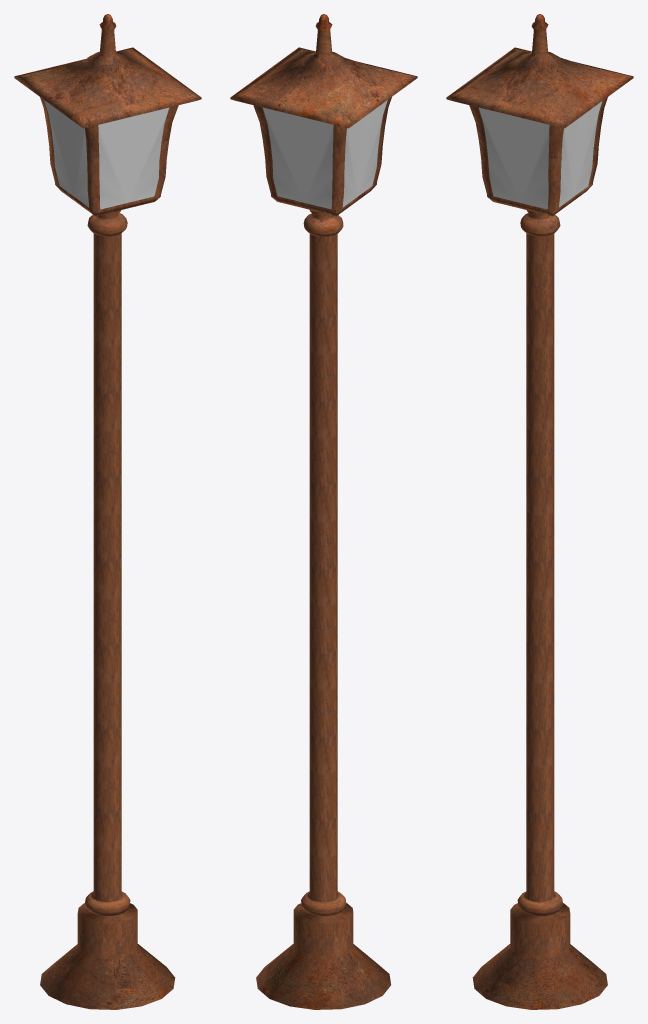
File: Lamp.fbx
3 renders of one model, left to right at view 1: azimuth 30°, elevation 25°; view 2: azimuth 150°, elevation 25°; view 3: azimuth 330°, elevation 25°, orthographic.
Parts seen in each view (by area): view 1: Candeeiro de rua antigo; view 2: Candeeiro de rua antigo; view 3: Candeeiro de rua antigo.
Boxes of the visible parts, x1,y1,x2,y2 form: Candeeiro de rua antigo: (14, 14, 201, 1009); Candeeiro de rua antigo: (230, 14, 417, 1009); Candeeiro de rua antigo: (446, 14, 633, 1009).
Bounding box in the file's own units: 175 × 1363 × 176.
Materials: 2 (1 with a texture image).
